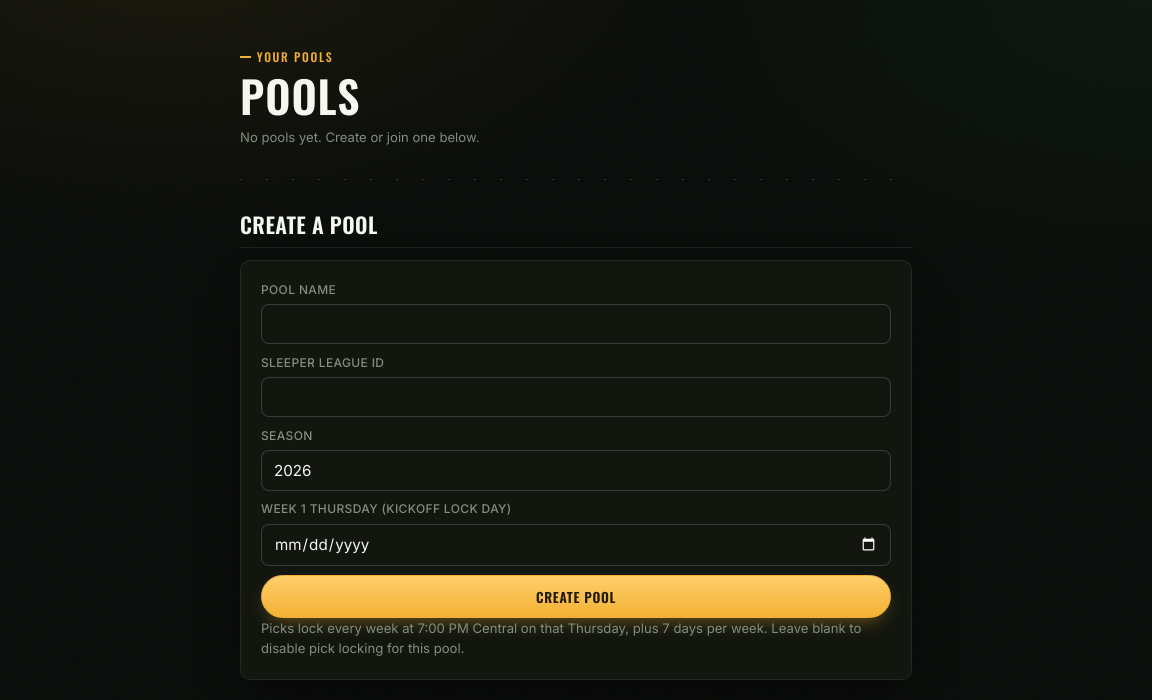
Test case: Pools › creates a pool, joins the creator to it, and reloads the list
The image size is (1152, 700).
Expected: the text "No pools yet. Create or join one below." is shown, [240,129,480,145]
Step 1. Type "New Pool" into the field labelled "Pool name" → (576, 324), box [261,304,891,344]
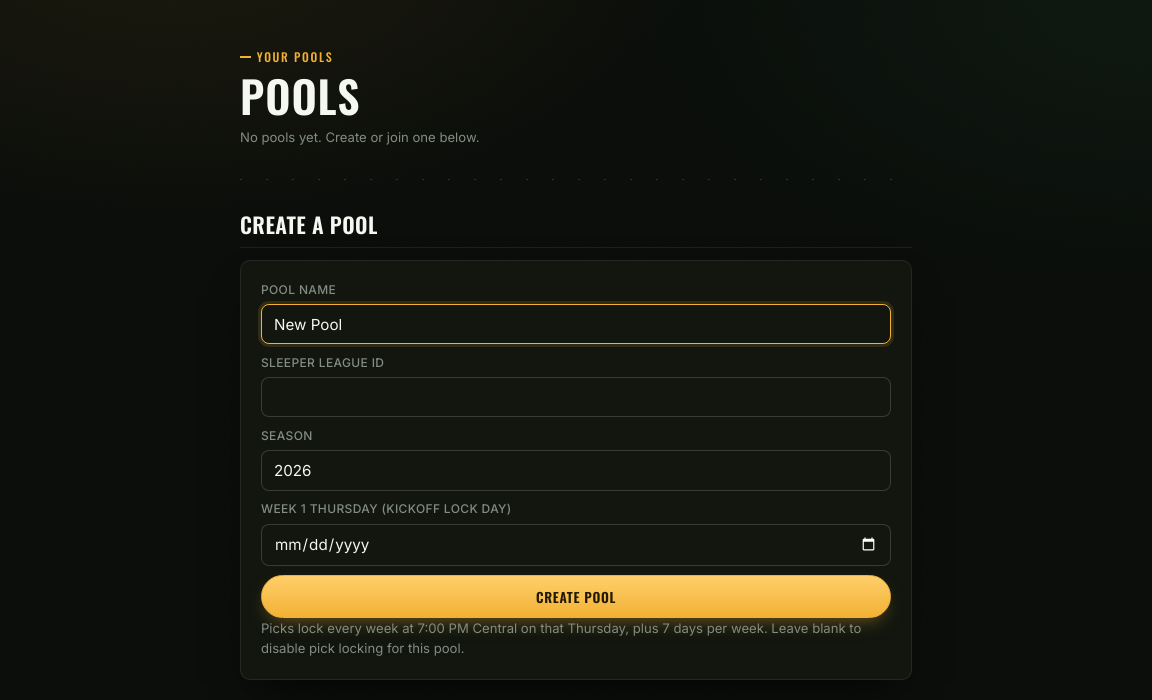
Step 2. Type "12345" into the field labelled "Sleeper league ID" → (576, 397), box [261,377,891,417]
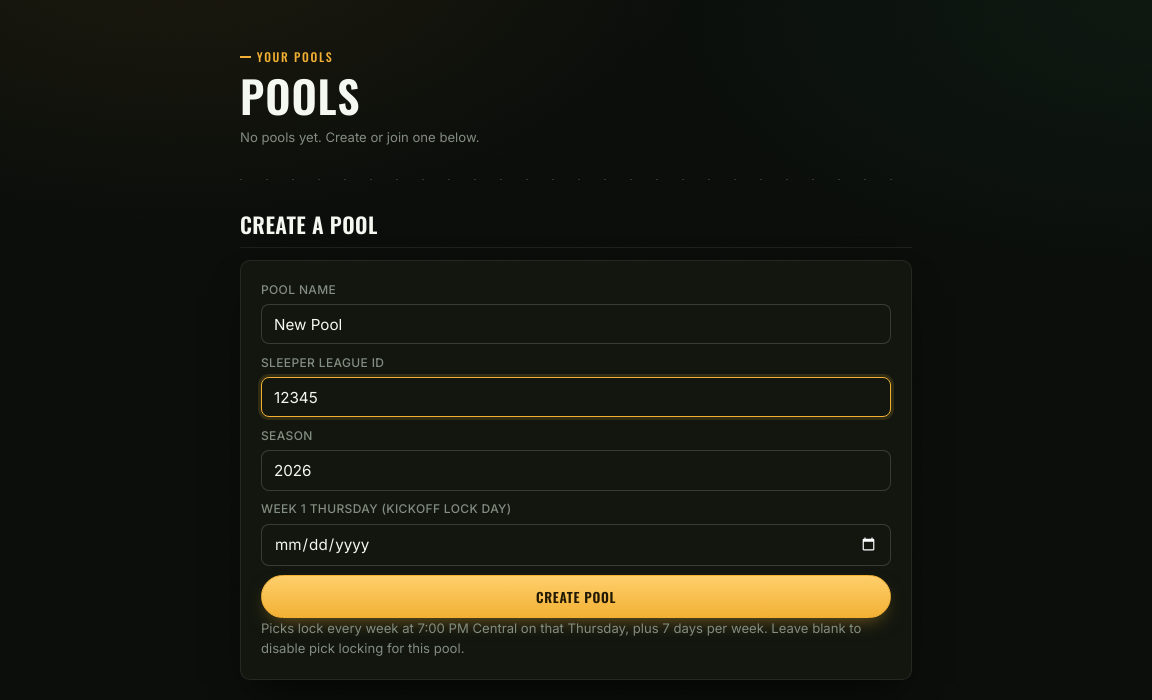
Step 3. Click the button "Create pool" → click(576, 597), box [261,575,891,618]
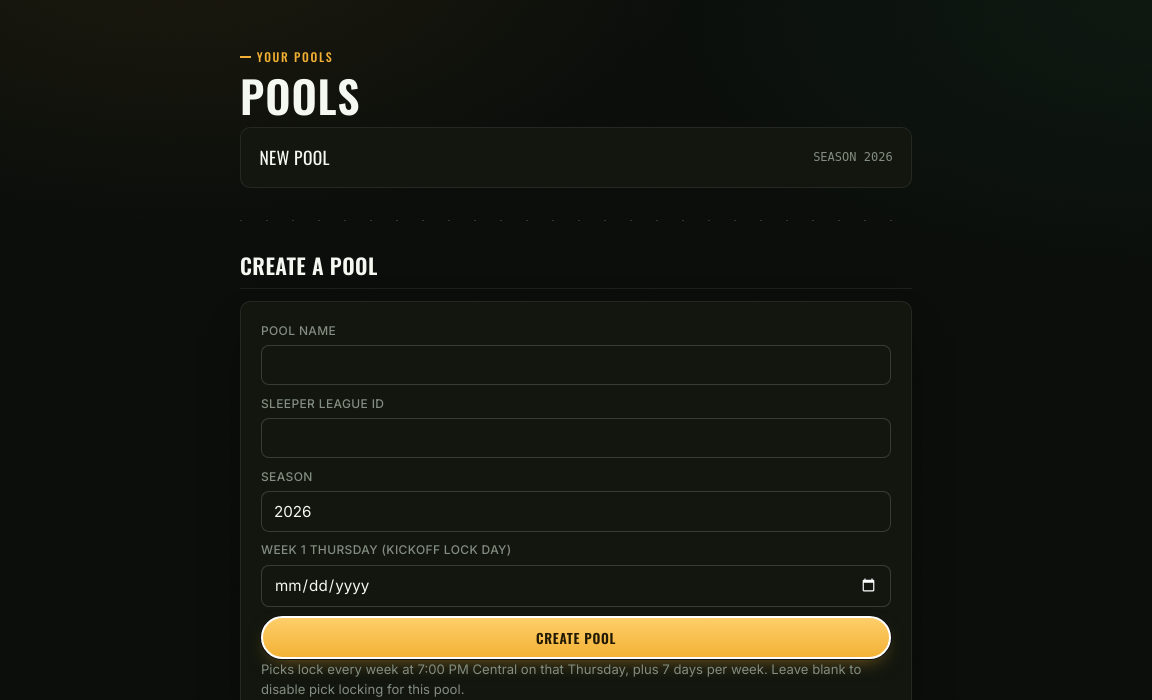
Expected: the text "New Pool" is shown, [259,144,330,171]
